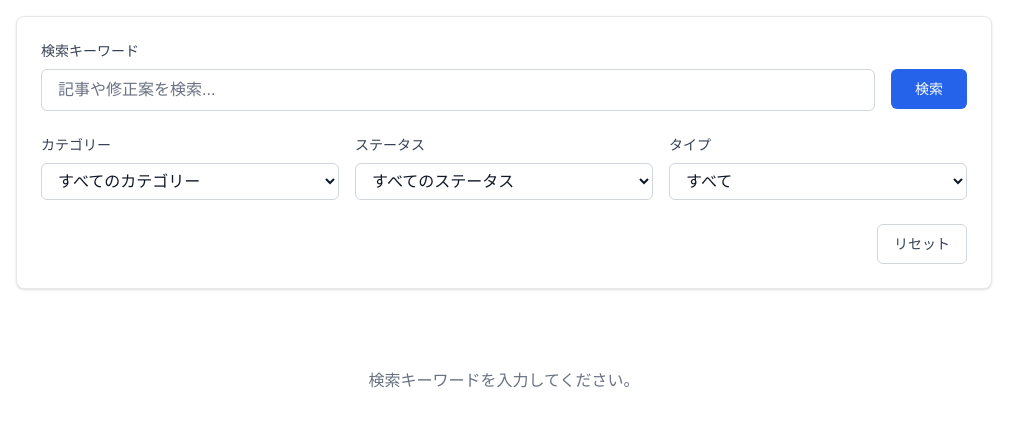
Test: SearchAndFilter › displays empty state when no results found
Type "存在しないキーワード" into the search field labelled "検索キーワード" at (458, 90), box [41, 69, 875, 111]
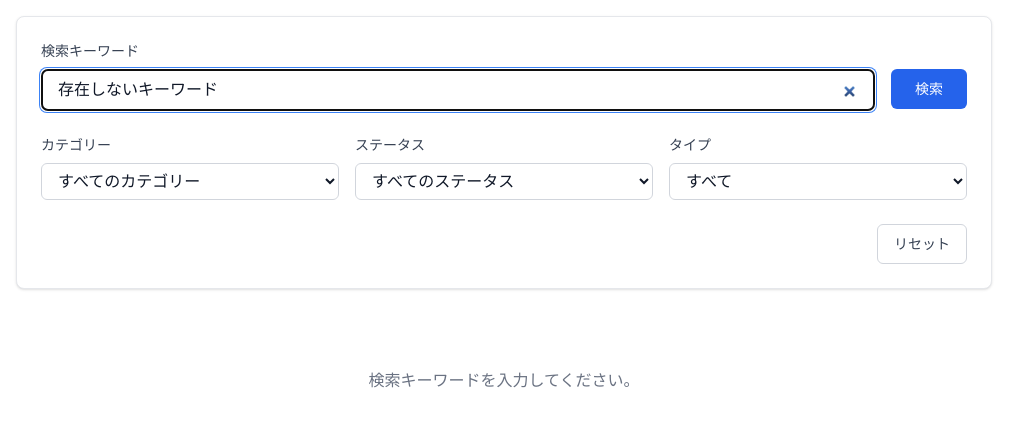
Click the button "検索" at (929, 89), box [891, 69, 967, 109]
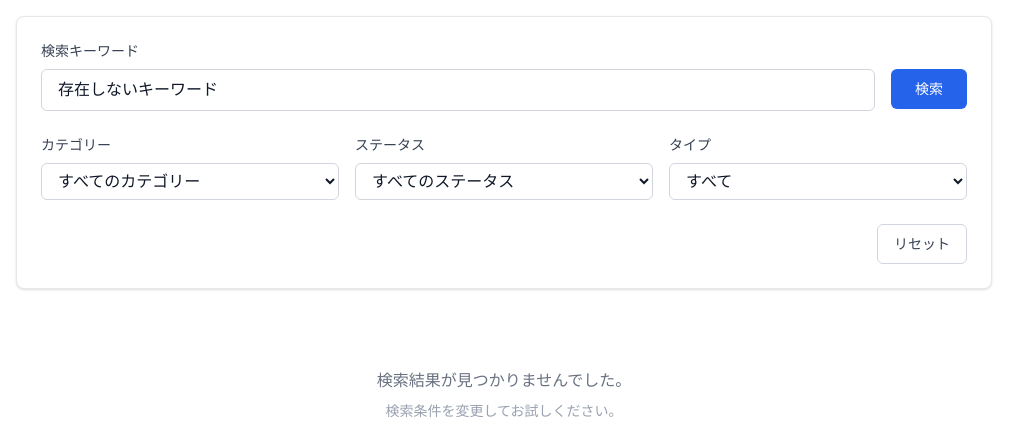
Check: the text "検索結果が見つかりませんでした。" is shown, box [377, 372, 631, 389]
Check: the text "検索条件を変更してお試しください。" is shown, box [385, 403, 623, 419]
